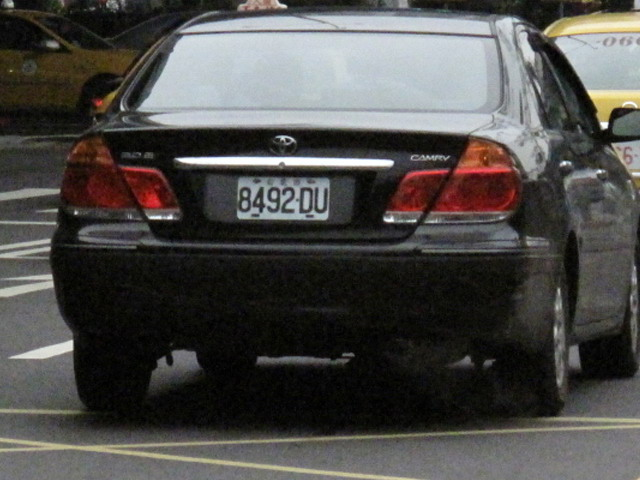plate: (236, 174, 331, 222)
